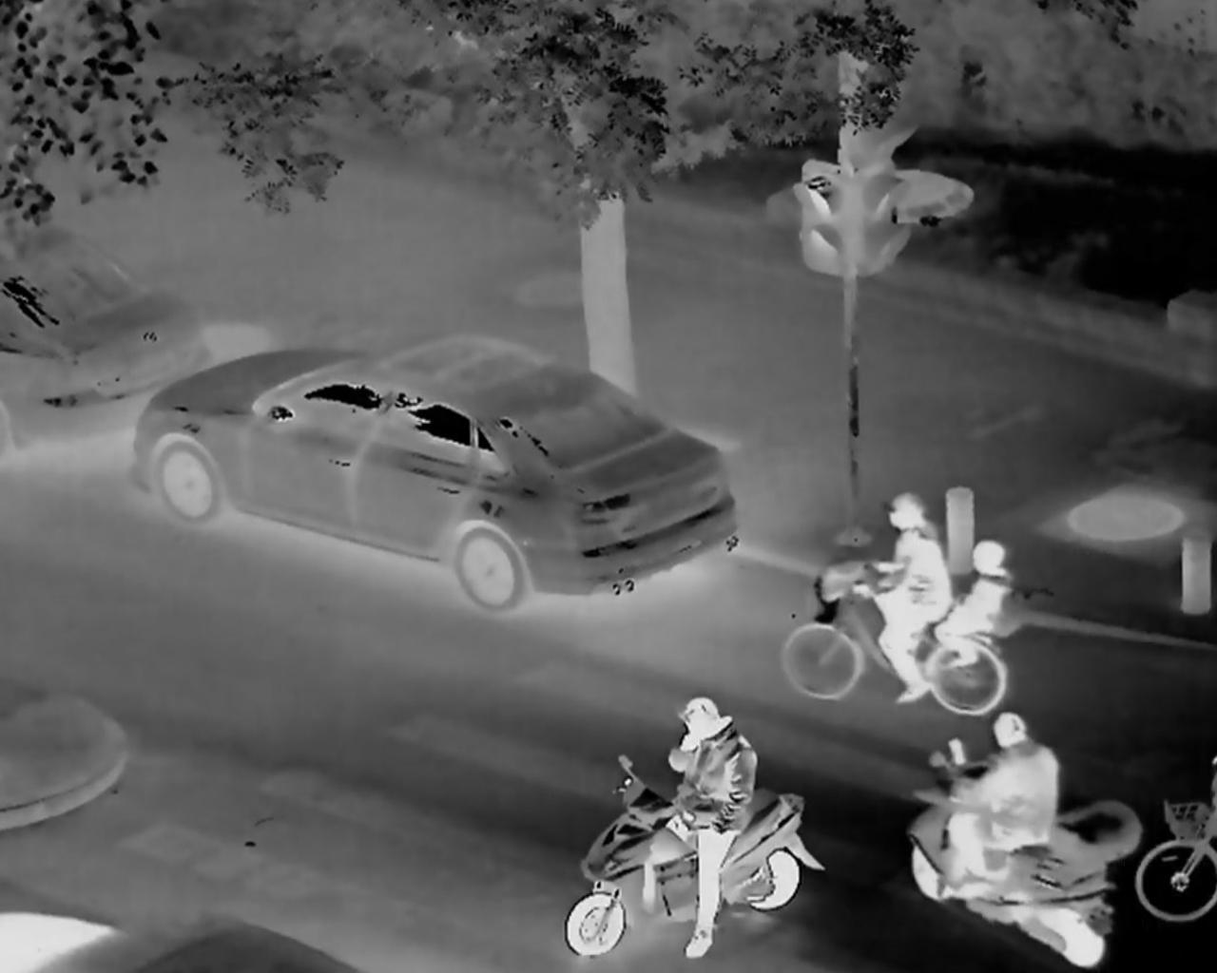person: (642, 692, 768, 966), (953, 714, 1060, 915), (860, 485, 948, 705), (949, 537, 1013, 668)
